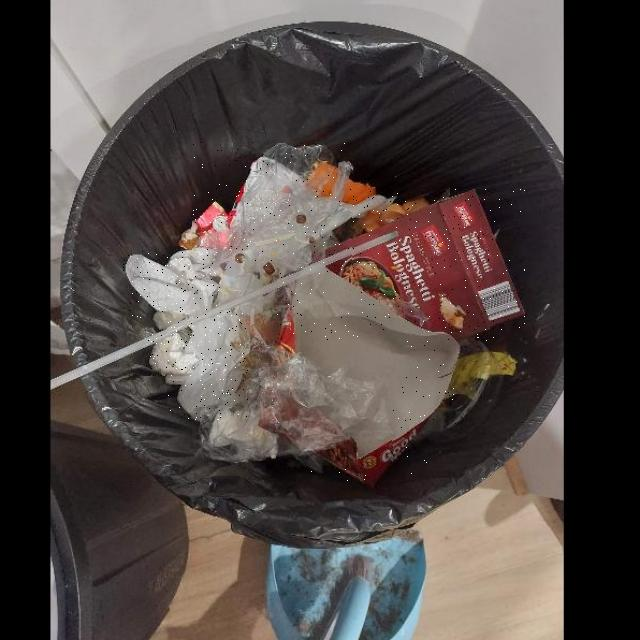paper: (277, 268, 461, 485), (327, 190, 526, 342), (123, 251, 220, 318), (149, 334, 199, 376)
plastic: (198, 342, 392, 464), (192, 142, 352, 269), (168, 311, 248, 420)
